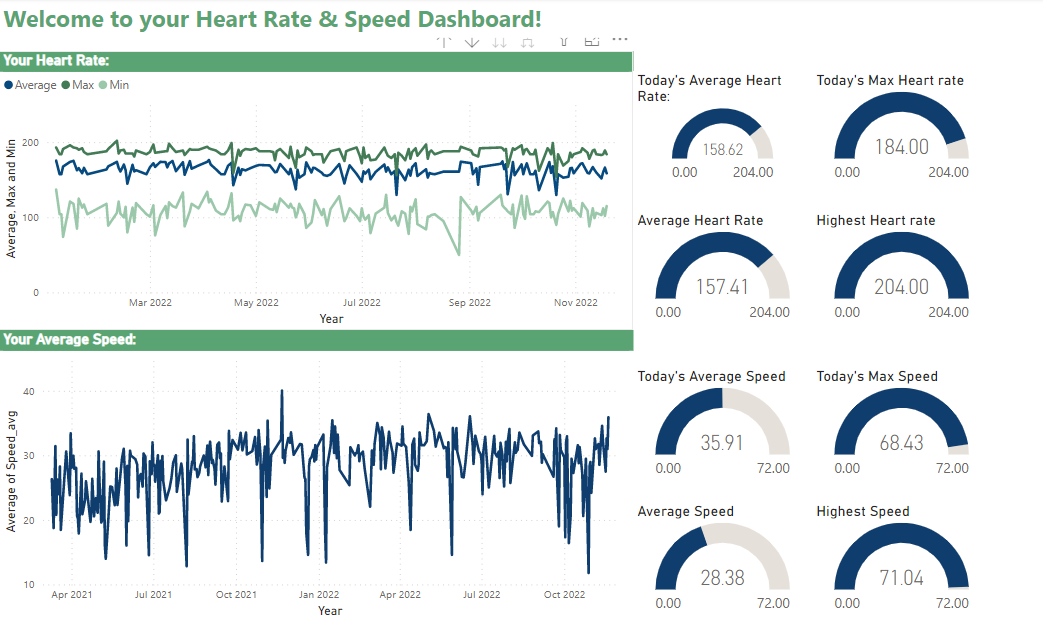

Layout of this report page (visuals, bound fields, positions):
{"tool":"powerbi","page":{"name":"Heart Rate + Speed","canvas":[1280,720],"ordinal":2},"visuals":[{"type":"lineChart","title":"Your Heart Rate:","fields":{"Y":["Sum(Sheet1.Heartrate_avg)","Sum(Sheet1.Heartrate_max)","Sum(Sheet1.Heartrate_min)"],"Category":["Sheet1.date_AEST.Variation.Date Hierarchy.Year","Sheet1.date_AEST.Variation.Date Hierarchy.Quarter","Sheet1.date_AEST.Variation.Date Hierarchy.Month","Sheet1.date_AEST.Variation.Date Hierarchy.Day"]},"box":[0,61.7,733.3,321.7],"z":0},{"type":"textbox","box":[0,0,940,61.7],"z":1000},{"type":"lineChart","title":"Your Speed:","fields":{"Y":["Avg(Sheet1.Speed_avg)"],"Category":["Sheet1.date_AEST.Variation.Date Hierarchy.Year","Sheet1.date_AEST.Variation.Date Hierarchy.Quarter","Sheet1.date_AEST.Variation.Date Hierarchy.Month","Sheet1.date_AEST.Variation.Date Hierarchy.Day"]},"box":[0,383.2,732.9,337],"z":2000},{"type":"gauge","title":"Today''s Maximum Heart rate","fields":{"Y":["Avg(Sheet1.Heartrate_max)"]},"box":[732.2,236.7,206.7,147.8],"z":3000},{"type":"gauge","title":"Today''s Average Heart Rate:","fields":{"Y":["Avg(Sheet1.Heartrate_avg)"]},"box":[732.2,62.2,207.8,174.4],"z":6000},{"type":"gauge","title":"Today''s Average Speed","fields":{"Y":["Avg(Sheet1.Speed_avg)"]},"box":[732.2,384.4,206.7,182.2],"z":7000},{"type":"gauge","title":"Today''s Maximum Speed","fields":{"Y":["Max(Sheet1.Speed_max)"]},"box":[732.2,566.7,207.8,153.3],"z":8000}]}

Visuals, with their boxes on the page's 1280x720 design canvas (x1, y1, x2, y2). These are canvas units, not pixel positions in the 1043x617 screenshot, which may show the page scaled, cropped or inside an application window:
"Your Heart Rate:" lineChart: [left=0, top=62, right=733, bottom=383]
textbox: [left=0, top=0, right=940, bottom=62]
"Your Speed:" lineChart: [left=0, top=383, right=733, bottom=720]
"Today''s Maximum Heart rate" gauge: [left=732, top=237, right=939, bottom=384]
"Today''s Average Heart Rate:" gauge: [left=732, top=62, right=940, bottom=237]
"Today''s Average Speed" gauge: [left=732, top=384, right=939, bottom=567]
"Today''s Maximum Speed" gauge: [left=732, top=567, right=940, bottom=720]
